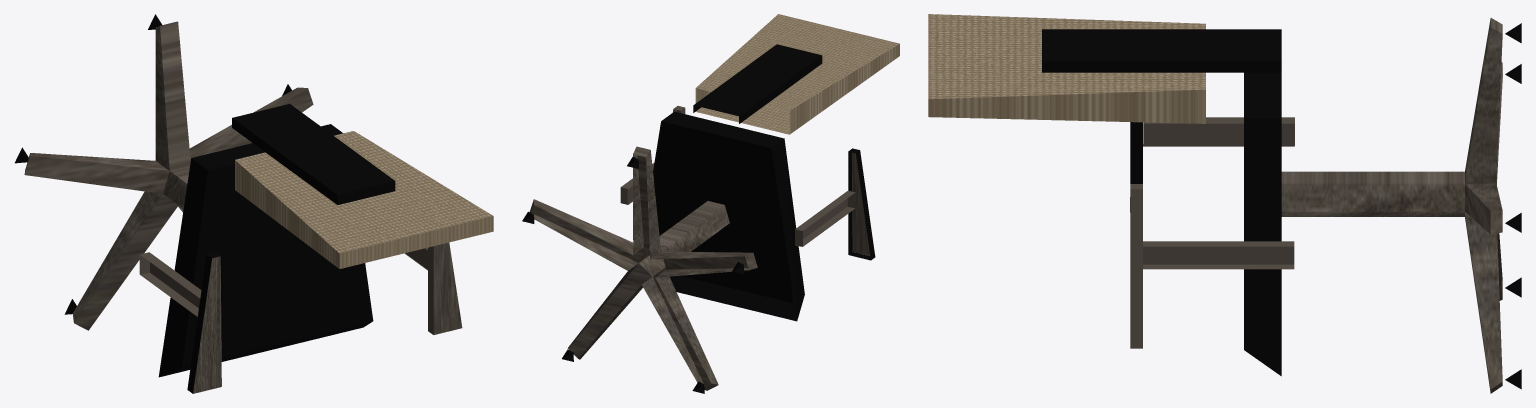
The model's file is officechair143_wtf.obj.
The picture shows the model from 3 angles, left to right: view 1: azimuth 30°, elevation 25°; view 2: azimuth 150°, elevation 25°; view 3: azimuth 270°, elevation 25°; orthographic projection. The views are drawn at different scales.
Parts seen in each view (by area): view 1: group7, group10, group12, group27, group13, group19, group15, group21, group20, group16; view 2: group3, group10, group12, group7, group27, group13, group21, group19, group20; view 3: group10, group12, group27, group7, group13, group17, group21, group16, group20.
Part boxes in pixels (box(x1,y1,x2,y2)): group7: box(158, 124, 373, 377); group10: box(24, 21, 313, 330); group12: box(235, 131, 492, 253); group27: box(232, 104, 395, 204); group13: box(235, 160, 493, 268); group19: box(193, 256, 221, 393); group15: box(433, 242, 462, 334); group21: box(139, 252, 201, 316); group20: box(187, 252, 221, 393); group16: box(428, 246, 433, 334); group3: box(654, 121, 792, 302); group10: box(529, 146, 757, 390); group12: box(696, 14, 899, 134); group7: box(653, 111, 804, 321); group27: box(693, 44, 822, 123); group13: box(695, 44, 899, 134); group21: box(795, 190, 855, 246); group19: box(851, 152, 875, 255); group20: box(848, 148, 875, 260); group10: box(1281, 18, 1502, 393); group12: box(928, 14, 1205, 99); group27: box(1042, 29, 1281, 72); group7: box(1244, 72, 1281, 376); group13: box(928, 89, 1205, 123); group17: box(1143, 241, 1294, 269); group21: box(1143, 117, 1294, 146); group16: box(1130, 184, 1142, 348); group20: box(1130, 122, 1142, 183).
Bounding box in the file's own units: 422 × 401 × 660.
